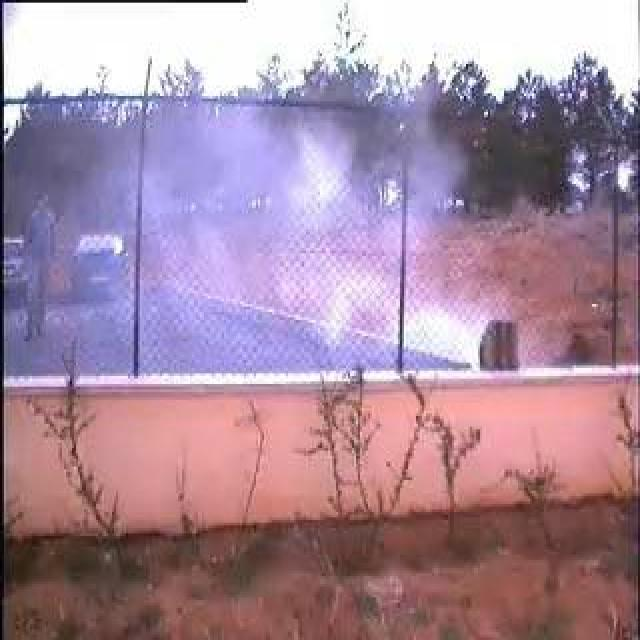Smoke: (145, 112, 521, 373)
